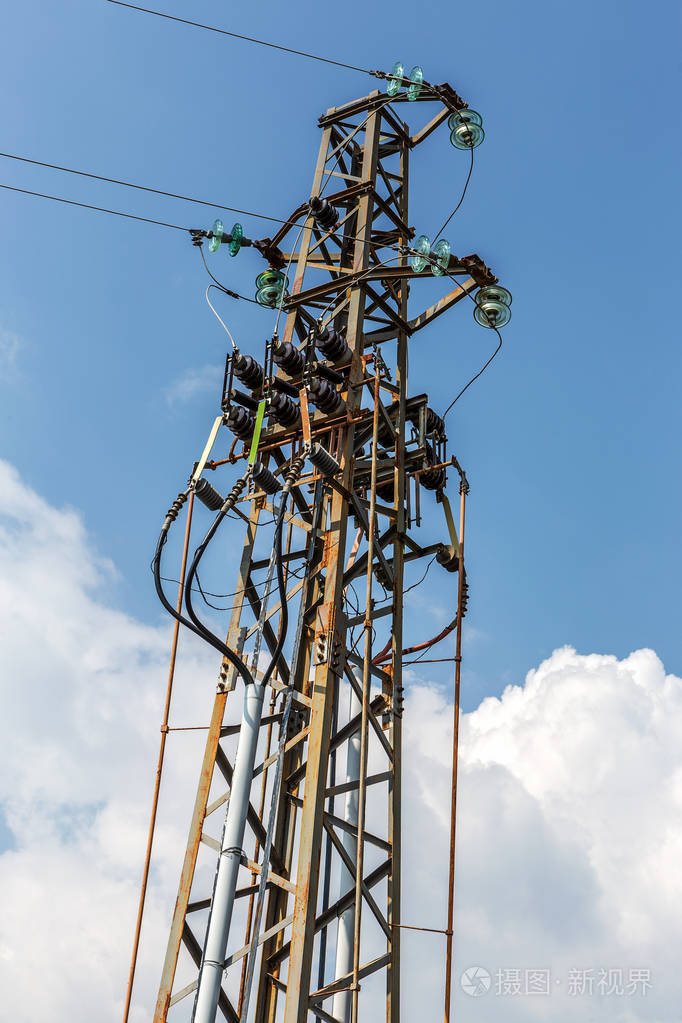insulator: (408, 236, 454, 283), (383, 58, 428, 105), (473, 282, 515, 329), (448, 108, 493, 151), (202, 217, 243, 256), (253, 270, 292, 310)
